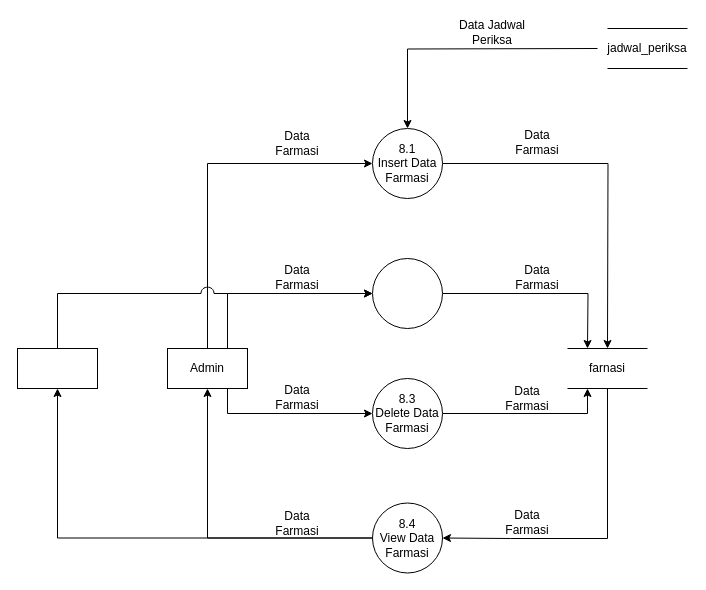
The diagram is 706 pixels wide and 590 high, and some of its shapes have lost their labels. Each missing label, with the box of its shape:
8.2 Update Data Farmasi: (372, 258, 442, 328)
Farmasi: (16, 348, 98, 388)
